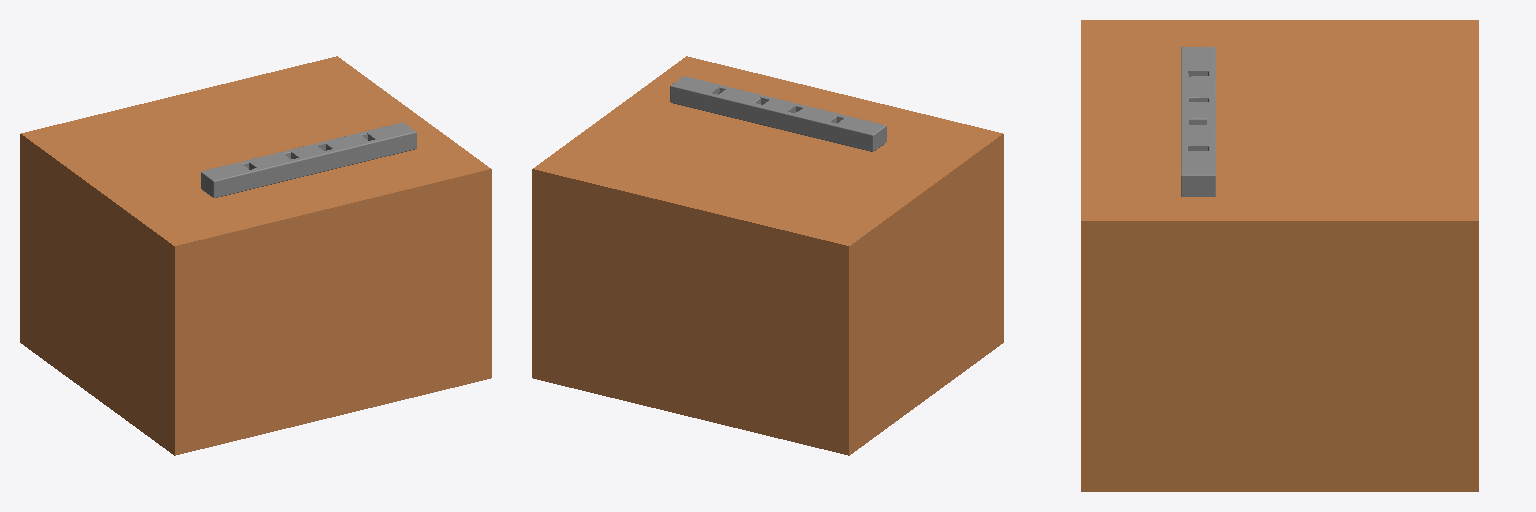
The robot description file, URDF, robot "table_beam_2x_2_scene_0061":
<?xml version="1.0"?>
<robot name="table_beam_2x_2_scene_0061">
  <link name="box">
    <visual>
      <material name="wood"><color rgba="0.82 0.56 0.35 1.0"/></material>
      <origin xyz="0 0 0"/>
      <geometry><box size="0.475 0.4 0.3"/></geometry>
    </visual>
    <collision>
      <origin xyz="0 0 0"/>
      <geometry><box size="0.475 0.4 0.3"/></geometry>
    </collision>
    <inertial>
      <mass value="500"/>
      <friction value="1.0"/>
      <inertia ixx="1000.0" ixy="0.0" ixz="0.0" iyy="1000.0" iyz="0.0" izz="1000.0"/>
    </inertial>
  </link>
  <link name="part_6_hull_0">
    <visual>
      <origin xyz="0 0 0" rpy="0 0 0"/>
      <geometry><mesh filename="../../6/coacd/decomp_0.obj" scale="1 1 1"/></geometry>
      <material name="placed_0"><color rgba="0.6 0.6 0.6 1.0"/></material>
    </visual>
    <collision>
      <origin xyz="0 0 0" rpy="0 0 0"/>
      <geometry><mesh filename="../../6/coacd/decomp_0.obj" scale="1 1 1"/></geometry>
    </collision>
  </link>
  <joint name="part_6_hull_0_joint" type="fixed">
    <parent link="box"/>
    <child link="part_6_hull_0"/>
    <origin xyz="0.031572 -0.081975 0.162666" rpy="0.000000 0.000000 0.000000"/>
  </joint>
  <link name="part_6_hull_1">
    <visual>
      <origin xyz="0 0 0" rpy="0 0 0"/>
      <geometry><mesh filename="../../6/coacd/decomp_1.obj" scale="1 1 1"/></geometry>
      <material name="placed_1"><color rgba="0.6 0.6 0.6 1.0"/></material>
    </visual>
    <collision>
      <origin xyz="0 0 0" rpy="0 0 0"/>
      <geometry><mesh filename="../../6/coacd/decomp_1.obj" scale="1 1 1"/></geometry>
    </collision>
  </link>
  <joint name="part_6_hull_1_joint" type="fixed">
    <parent link="box"/>
    <child link="part_6_hull_1"/>
    <origin xyz="0.031572 -0.081975 0.162666" rpy="0.000000 0.000000 0.000000"/>
  </joint>
  <link name="part_6_hull_2">
    <visual>
      <origin xyz="0 0 0" rpy="0 0 0"/>
      <geometry><mesh filename="../../6/coacd/decomp_10.obj" scale="1 1 1"/></geometry>
      <material name="placed_2"><color rgba="0.6 0.6 0.6 1.0"/></material>
    </visual>
    <collision>
      <origin xyz="0 0 0" rpy="0 0 0"/>
      <geometry><mesh filename="../../6/coacd/decomp_10.obj" scale="1 1 1"/></geometry>
    </collision>
  </link>
  <joint name="part_6_hull_2_joint" type="fixed">
    <parent link="box"/>
    <child link="part_6_hull_2"/>
    <origin xyz="0.031572 -0.081975 0.162666" rpy="0.000000 0.000000 0.000000"/>
  </joint>
  <link name="part_6_hull_3">
    <visual>
      <origin xyz="0 0 0" rpy="0 0 0"/>
      <geometry><mesh filename="../../6/coacd/decomp_11.obj" scale="1 1 1"/></geometry>
      <material name="placed_3"><color rgba="0.6 0.6 0.6 1.0"/></material>
    </visual>
    <collision>
      <origin xyz="0 0 0" rpy="0 0 0"/>
      <geometry><mesh filename="../../6/coacd/decomp_11.obj" scale="1 1 1"/></geometry>
    </collision>
  </link>
  <joint name="part_6_hull_3_joint" type="fixed">
    <parent link="box"/>
    <child link="part_6_hull_3"/>
    <origin xyz="0.031572 -0.081975 0.162666" rpy="0.000000 0.000000 0.000000"/>
  </joint>
  <link name="part_6_hull_4">
    <visual>
      <origin xyz="0 0 0" rpy="0 0 0"/>
      <geometry><mesh filename="../../6/coacd/decomp_12.obj" scale="1 1 1"/></geometry>
      <material name="placed_4"><color rgba="0.6 0.6 0.6 1.0"/></material>
    </visual>
    <collision>
      <origin xyz="0 0 0" rpy="0 0 0"/>
      <geometry><mesh filename="../../6/coacd/decomp_12.obj" scale="1 1 1"/></geometry>
    </collision>
  </link>
  <joint name="part_6_hull_4_joint" type="fixed">
    <parent link="box"/>
    <child link="part_6_hull_4"/>
    <origin xyz="0.031572 -0.081975 0.162666" rpy="0.000000 0.000000 0.000000"/>
  </joint>
  <link name="part_6_hull_5">
    <visual>
      <origin xyz="0 0 0" rpy="0 0 0"/>
      <geometry><mesh filename="../../6/coacd/decomp_13.obj" scale="1 1 1"/></geometry>
      <material name="placed_5"><color rgba="0.6 0.6 0.6 1.0"/></material>
    </visual>
    <collision>
      <origin xyz="0 0 0" rpy="0 0 0"/>
      <geometry><mesh filename="../../6/coacd/decomp_13.obj" scale="1 1 1"/></geometry>
    </collision>
  </link>
  <joint name="part_6_hull_5_joint" type="fixed">
    <parent link="box"/>
    <child link="part_6_hull_5"/>
    <origin xyz="0.031572 -0.081975 0.162666" rpy="0.000000 0.000000 0.000000"/>
  </joint>
  <link name="part_6_hull_6">
    <visual>
      <origin xyz="0 0 0" rpy="0 0 0"/>
      <geometry><mesh filename="../../6/coacd/decomp_2.obj" scale="1 1 1"/></geometry>
      <material name="placed_6"><color rgba="0.6 0.6 0.6 1.0"/></material>
    </visual>
    <collision>
      <origin xyz="0 0 0" rpy="0 0 0"/>
      <geometry><mesh filename="../../6/coacd/decomp_2.obj" scale="1 1 1"/></geometry>
    </collision>
  </link>
  <joint name="part_6_hull_6_joint" type="fixed">
    <parent link="box"/>
    <child link="part_6_hull_6"/>
    <origin xyz="0.031572 -0.081975 0.162666" rpy="0.000000 0.000000 0.000000"/>
  </joint>
  <link name="part_6_hull_7">
    <visual>
      <origin xyz="0 0 0" rpy="0 0 0"/>
      <geometry><mesh filename="../../6/coacd/decomp_3.obj" scale="1 1 1"/></geometry>
      <material name="placed_7"><color rgba="0.6 0.6 0.6 1.0"/></material>
    </visual>
    <collision>
      <origin xyz="0 0 0" rpy="0 0 0"/>
      <geometry><mesh filename="../../6/coacd/decomp_3.obj" scale="1 1 1"/></geometry>
    </collision>
  </link>
  <joint name="part_6_hull_7_joint" type="fixed">
    <parent link="box"/>
    <child link="part_6_hull_7"/>
    <origin xyz="0.031572 -0.081975 0.162666" rpy="0.000000 0.000000 0.000000"/>
  </joint>
  <link name="part_6_hull_8">
    <visual>
      <origin xyz="0 0 0" rpy="0 0 0"/>
      <geometry><mesh filename="../../6/coacd/decomp_4.obj" scale="1 1 1"/></geometry>
      <material name="placed_8"><color rgba="0.6 0.6 0.6 1.0"/></material>
    </visual>
    <collision>
      <origin xyz="0 0 0" rpy="0 0 0"/>
      <geometry><mesh filename="../../6/coacd/decomp_4.obj" scale="1 1 1"/></geometry>
    </collision>
  </link>
  <joint name="part_6_hull_8_joint" type="fixed">
    <parent link="box"/>
    <child link="part_6_hull_8"/>
    <origin xyz="0.031572 -0.081975 0.162666" rpy="0.000000 0.000000 0.000000"/>
  </joint>
  <link name="part_6_hull_9">
    <visual>
      <origin xyz="0 0 0" rpy="0 0 0"/>
      <geometry><mesh filename="../../6/coacd/decomp_5.obj" scale="1 1 1"/></geometry>
      <material name="placed_9"><color rgba="0.6 0.6 0.6 1.0"/></material>
    </visual>
    <collision>
      <origin xyz="0 0 0" rpy="0 0 0"/>
      <geometry><mesh filename="../../6/coacd/decomp_5.obj" scale="1 1 1"/></geometry>
    </collision>
  </link>
  <joint name="part_6_hull_9_joint" type="fixed">
    <parent link="box"/>
    <child link="part_6_hull_9"/>
    <origin xyz="0.031572 -0.081975 0.162666" rpy="0.000000 0.000000 0.000000"/>
  </joint>
  <link name="part_6_hull_10">
    <visual>
      <origin xyz="0 0 0" rpy="0 0 0"/>
      <geometry><mesh filename="../../6/coacd/decomp_6.obj" scale="1 1 1"/></geometry>
      <material name="placed_10"><color rgba="0.6 0.6 0.6 1.0"/></material>
    </visual>
    <collision>
      <origin xyz="0 0 0" rpy="0 0 0"/>
      <geometry><mesh filename="../../6/coacd/decomp_6.obj" scale="1 1 1"/></geometry>
    </collision>
  </link>
  <joint name="part_6_hull_10_joint" type="fixed">
    <parent link="box"/>
    <child link="part_6_hull_10"/>
    <origin xyz="0.031572 -0.081975 0.162666" rpy="0.000000 0.000000 0.000000"/>
  </joint>
  <link name="part_6_hull_11">
    <visual>
      <origin xyz="0 0 0" rpy="0 0 0"/>
      <geometry><mesh filename="../../6/coacd/decomp_7.obj" scale="1 1 1"/></geometry>
      <material name="placed_11"><color rgba="0.6 0.6 0.6 1.0"/></material>
    </visual>
    <collision>
      <origin xyz="0 0 0" rpy="0 0 0"/>
      <geometry><mesh filename="../../6/coacd/decomp_7.obj" scale="1 1 1"/></geometry>
    </collision>
  </link>
  <joint name="part_6_hull_11_joint" type="fixed">
    <parent link="box"/>
    <child link="part_6_hull_11"/>
    <origin xyz="0.031572 -0.081975 0.162666" rpy="0.000000 0.000000 0.000000"/>
  </joint>
  <link name="part_6_hull_12">
    <visual>
      <origin xyz="0 0 0" rpy="0 0 0"/>
      <geometry><mesh filename="../../6/coacd/decomp_8.obj" scale="1 1 1"/></geometry>
      <material name="placed_12"><color rgba="0.6 0.6 0.6 1.0"/></material>
    </visual>
    <collision>
      <origin xyz="0 0 0" rpy="0 0 0"/>
      <geometry><mesh filename="../../6/coacd/decomp_8.obj" scale="1 1 1"/></geometry>
    </collision>
  </link>
  <joint name="part_6_hull_12_joint" type="fixed">
    <parent link="box"/>
    <child link="part_6_hull_12"/>
    <origin xyz="0.031572 -0.081975 0.162666" rpy="0.000000 0.000000 0.000000"/>
  </joint>
  <link name="part_6_hull_13">
    <visual>
      <origin xyz="0 0 0" rpy="0 0 0"/>
      <geometry><mesh filename="../../6/coacd/decomp_9.obj" scale="1 1 1"/></geometry>
      <material name="placed_13"><color rgba="0.6 0.6 0.6 1.0"/></material>
    </visual>
    <collision>
      <origin xyz="0 0 0" rpy="0 0 0"/>
      <geometry><mesh filename="../../6/coacd/decomp_9.obj" scale="1 1 1"/></geometry>
    </collision>
  </link>
  <joint name="part_6_hull_13_joint" type="fixed">
    <parent link="box"/>
    <child link="part_6_hull_13"/>
    <origin xyz="0.031572 -0.081975 0.162666" rpy="0.000000 0.000000 0.000000"/>
  </joint>
</robot>

--- Facts derived from the render (not from the file) ---
3 views of the same robot in one strip: view 1: azimuth 30°, elevation 25°; view 2: azimuth 150°, elevation 25°; view 3: azimuth 270°, elevation 25° (orthographic).
Model table_beam_2x_2_scene_0061 with 15 links and 14 joints (14 fixed), rooted at box, posed every joint at zero.
Visible links, largest first — view 1: box, part_6_hull_1, part_6_hull_0, part_6_hull_9, part_6_hull_5, part_6_hull_3; view 2: box, part_6_hull_1, part_6_hull_0, part_6_hull_2, part_6_hull_5, part_6_hull_12; view 3: box, part_6_hull_0, part_6_hull_1, part_6_hull_5, part_6_hull_2.
Boxes of the visible links, x1=… form: box: x1=20, y1=56, x2=491, y2=455; part_6_hull_1: x1=201, y1=162, x2=252, y2=197; part_6_hull_0: x1=365, y1=122, x2=416, y2=157; part_6_hull_9: x1=251, y1=158, x2=301, y2=188; part_6_hull_5: x1=332, y1=133, x2=370, y2=166; part_6_hull_3: x1=303, y1=147, x2=343, y2=175; box: x1=532, y1=56, x2=1003, y2=455; part_6_hull_1: x1=834, y1=116, x2=886, y2=151; part_6_hull_0: x1=670, y1=76, x2=721, y2=111; part_6_hull_2: x1=792, y1=108, x2=836, y2=140; part_6_hull_5: x1=716, y1=87, x2=755, y2=119; part_6_hull_12: x1=743, y1=101, x2=783, y2=129; box: x1=1081, y1=20, x2=1478, y2=491; part_6_hull_0: x1=1181, y1=151, x2=1215, y2=196; part_6_hull_1: x1=1181, y1=47, x2=1215, y2=76; part_6_hull_5: x1=1181, y1=129, x2=1215, y2=150; part_6_hull_2: x1=1189, y1=76, x2=1215, y2=101.
Size in the robot's own frame: 0.475 by 0.4 by 0.3254 metres.
14 mesh visuals loaded from 14 distinct referenced files (14 OBJ).
